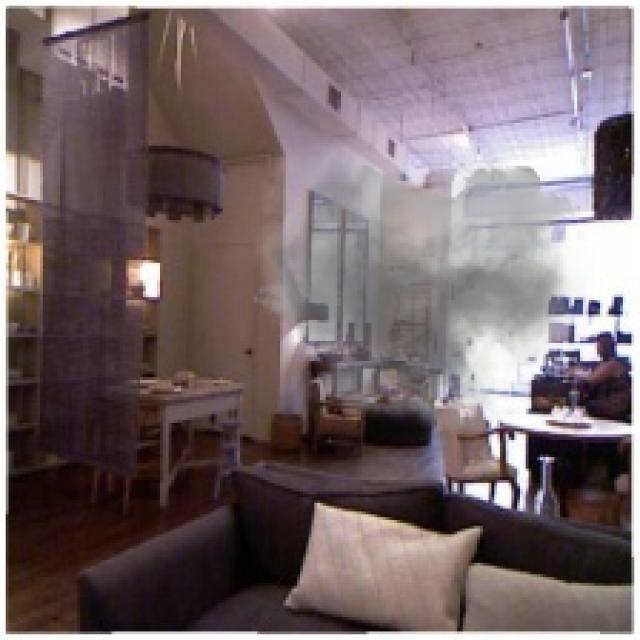Smoke: (240, 91, 594, 452)
